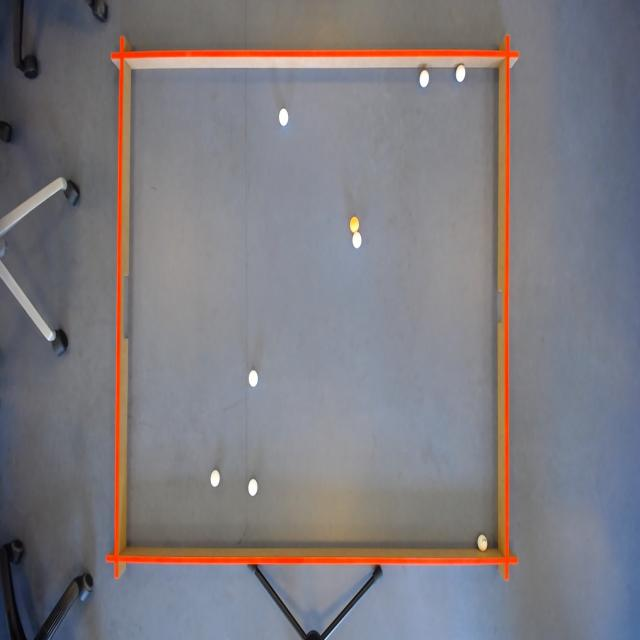orange_ball: (348, 211, 360, 236)
white_ball: (208, 466, 222, 491), (277, 106, 291, 131), (476, 530, 490, 554), (454, 61, 468, 85), (419, 66, 431, 93), (248, 474, 260, 500), (351, 231, 364, 252), (247, 369, 259, 390)
